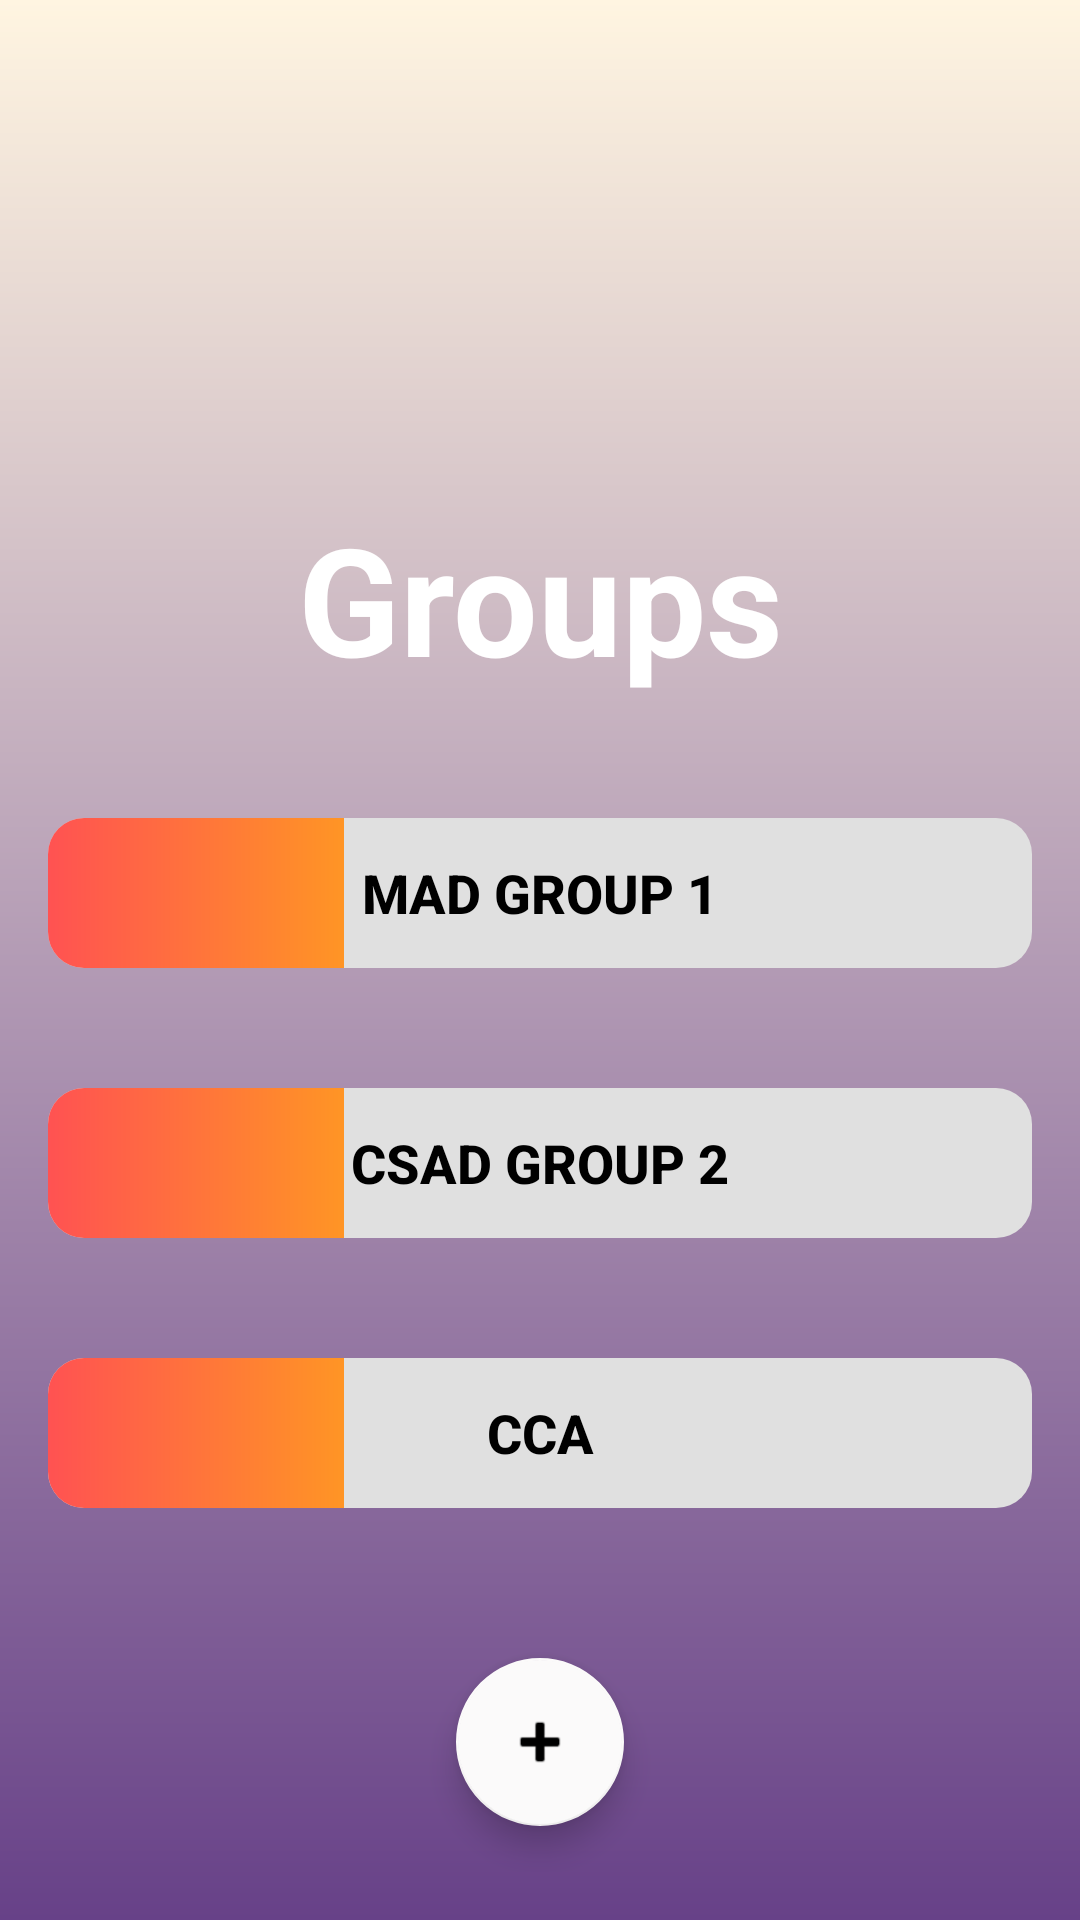

Icon bounding boxes for this 1080px×1920px phone screenshot, format Rect(x1, y1, x2, y2):
add: Rect(456, 1658, 624, 1826)
